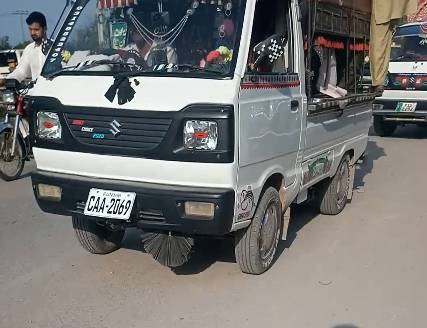number_plate: (84, 183, 139, 223)
